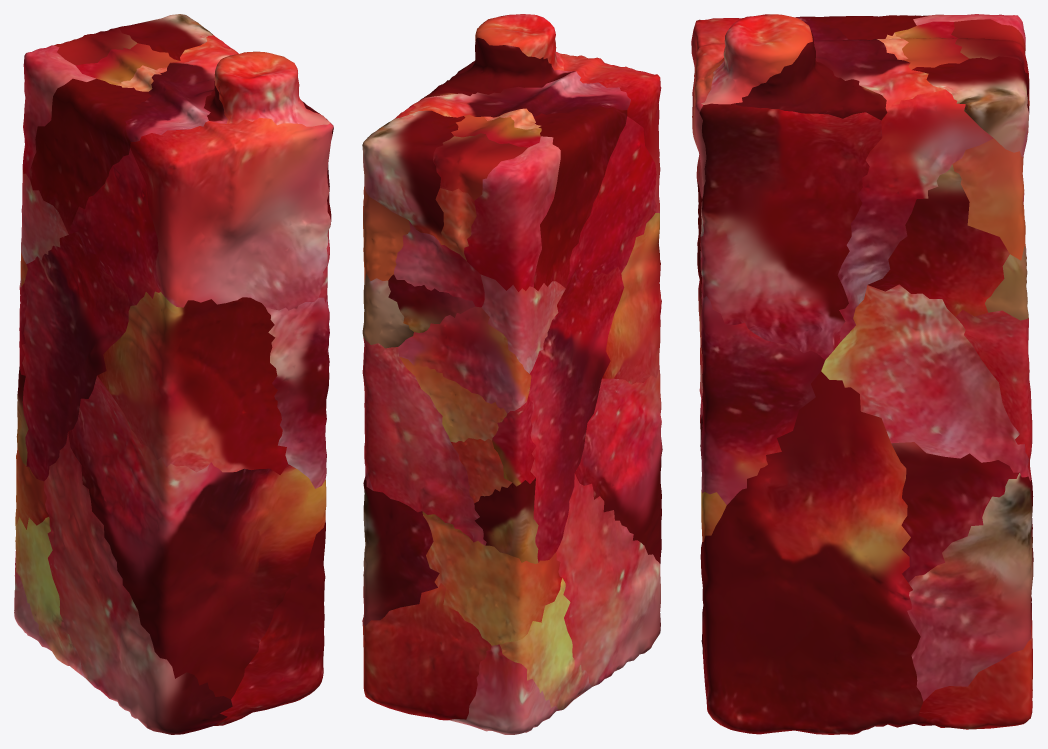
File: 3DModel.obj
3 views of the same model, side by side, from view 1: azimuth 30°, elevation 25°; view 2: azimuth 150°, elevation 25°; view 3: azimuth 270°, elevation 25° (orthographic). The views are drawn at different scales.
Visible parts, largest first — view 1: 3DModel; view 2: 3DModel; view 3: 3DModel.
Part boxes in pixels (<box>): 3DModel: <box>14,14,333,734</box>; 3DModel: <box>362,14,662,734</box>; 3DModel: <box>691,14,1033,734</box>.
Bounding box in the file's own units: 0.0633 × 0.2104 × 0.0945.
